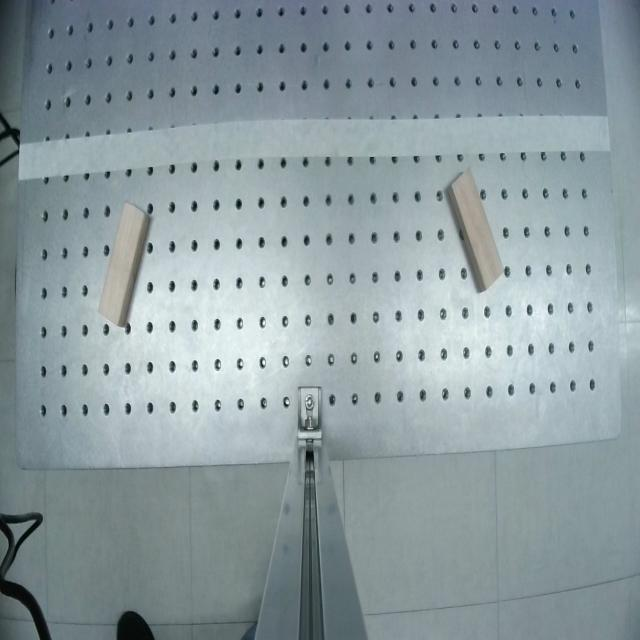wood: (442, 167, 509, 292), (96, 201, 151, 328)
